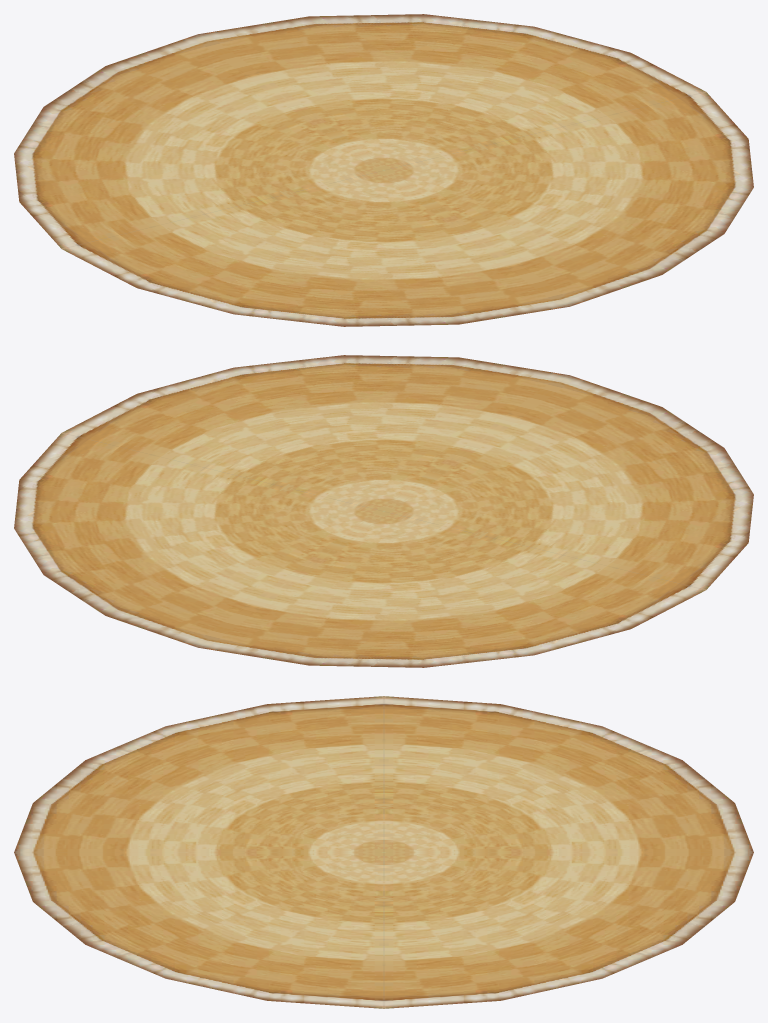
The model's file is my_sunshineresort_01_carpet_05.glb.
3 renders of one model, top to bottom at view 1: azimuth 30°, elevation 25°; view 2: azimuth 150°, elevation 25°; view 3: azimuth 270°, elevation 25°, orthographic.
Visible parts, largest first — view 1: my_sunshineresort_01_carpet_05; view 2: my_sunshineresort_01_carpet_05; view 3: my_sunshineresort_01_carpet_05.
Part boxes in pixels (x1,y1,x2,y2): my_sunshineresort_01_carpet_05: [14, 14, 753, 326]; my_sunshineresort_01_carpet_05: [14, 355, 753, 667]; my_sunshineresort_01_carpet_05: [14, 696, 753, 1008].
Size of the model in its own units: 0.0174 by 0 by 0.0174.
1 material, 1 textured.
